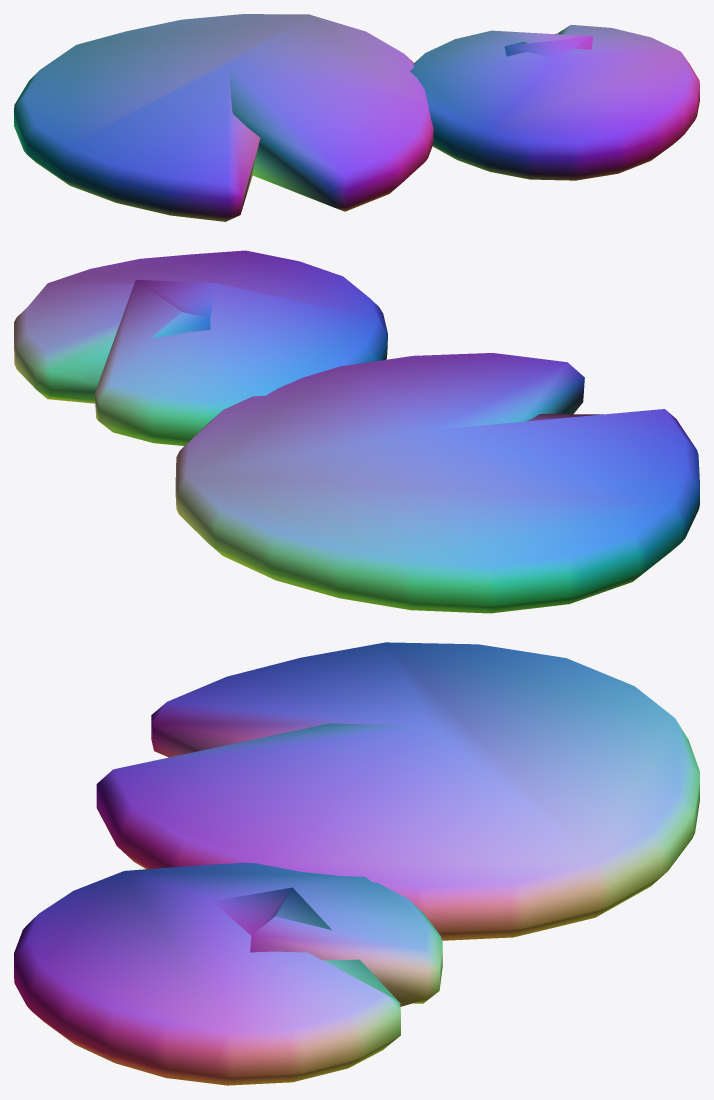
Rendered from SM_Foliage_Plains_LilyPad_A.fbx.
3 renders of one model, top to bottom at view 1: azimuth 30°, elevation 25°; view 2: azimuth 150°, elevation 25°; view 3: azimuth 270°, elevation 25°, orthographic. The views are drawn at different scales.
Visible parts, largest first — view 1: SM_Foliage_Plains_LilyPad_A; view 2: SM_Foliage_Plains_LilyPad_A; view 3: SM_Foliage_Plains_LilyPad_A.
Part boxes in pixels (x1=…): SM_Foliage_Plains_LilyPad_A: x1=14, y1=14, x2=699, y2=221; SM_Foliage_Plains_LilyPad_A: x1=14, y1=250, x2=699, y2=613; SM_Foliage_Plains_LilyPad_A: x1=14, y1=642, x2=699, y2=1085.
Bounding box in the file's own units: 0.5365 × 0.0798 × 0.3887.
